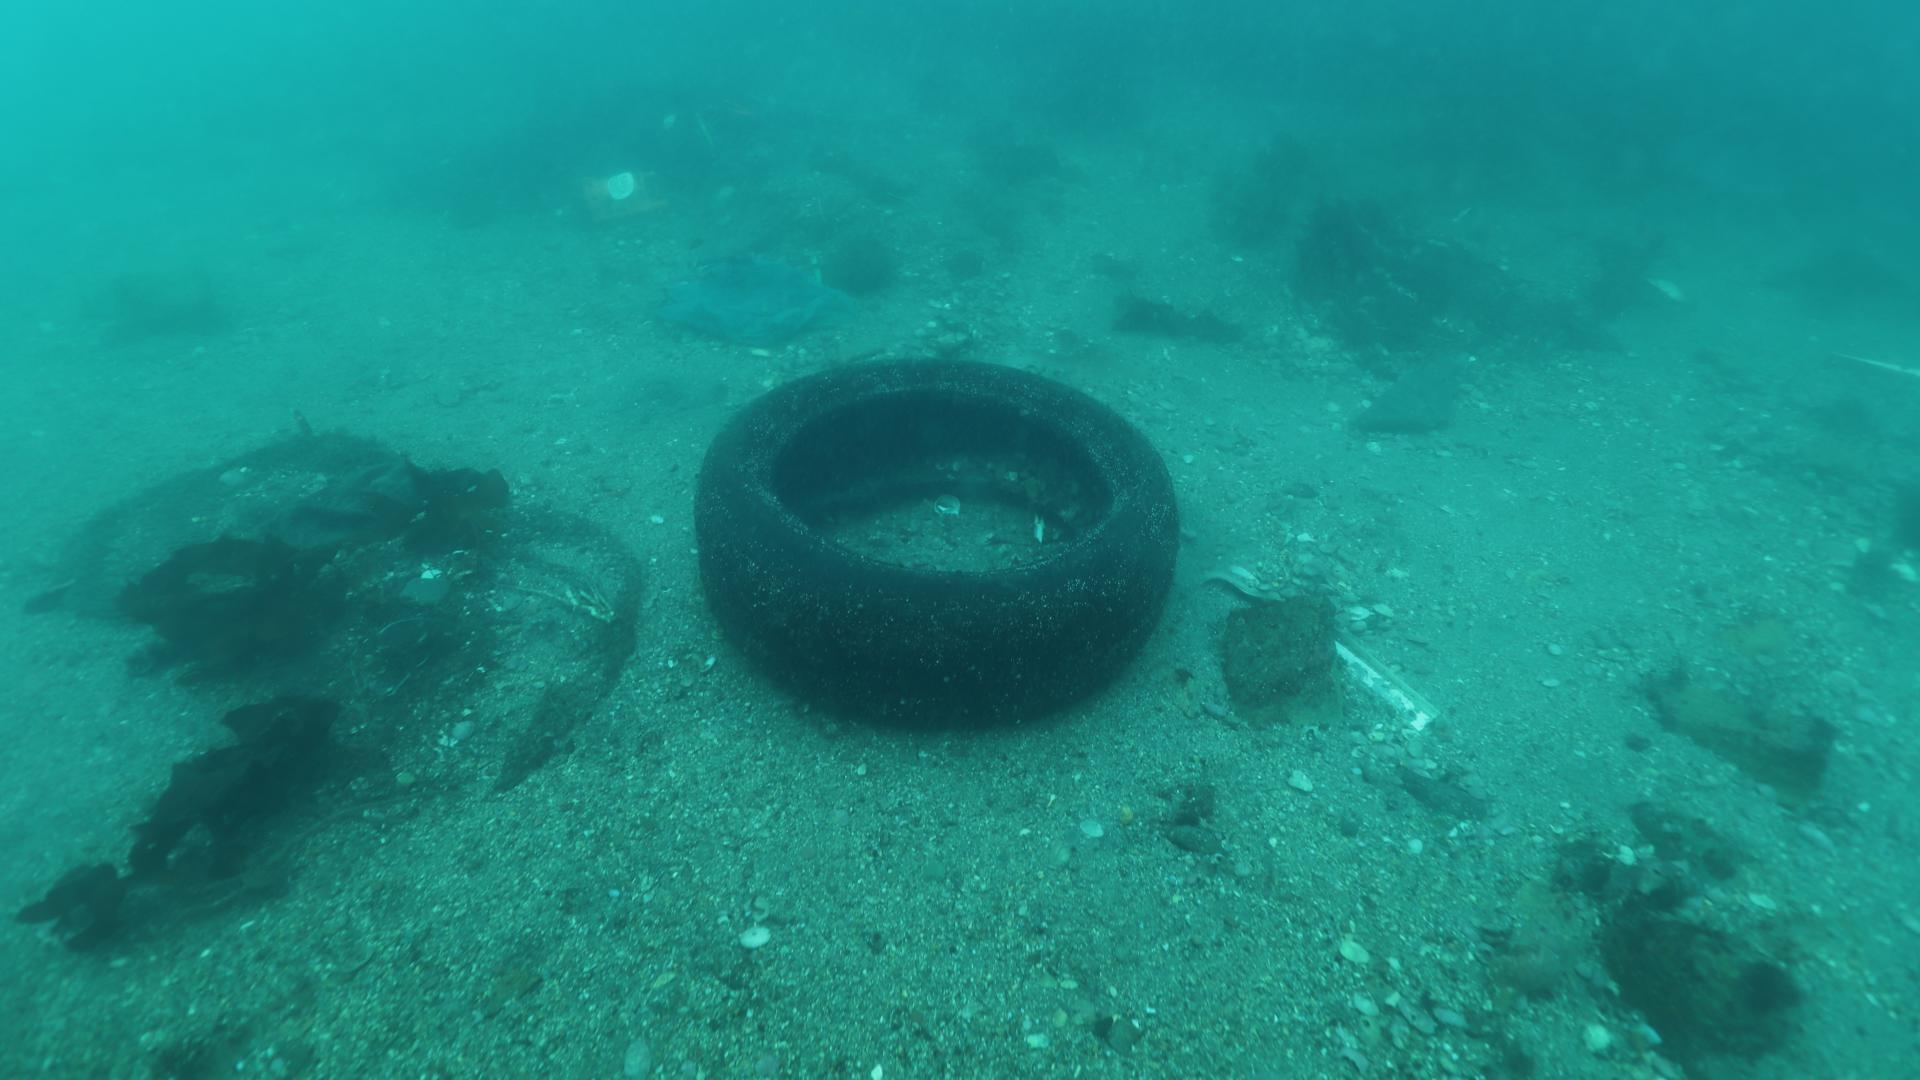tire: (695, 352, 1182, 729)
